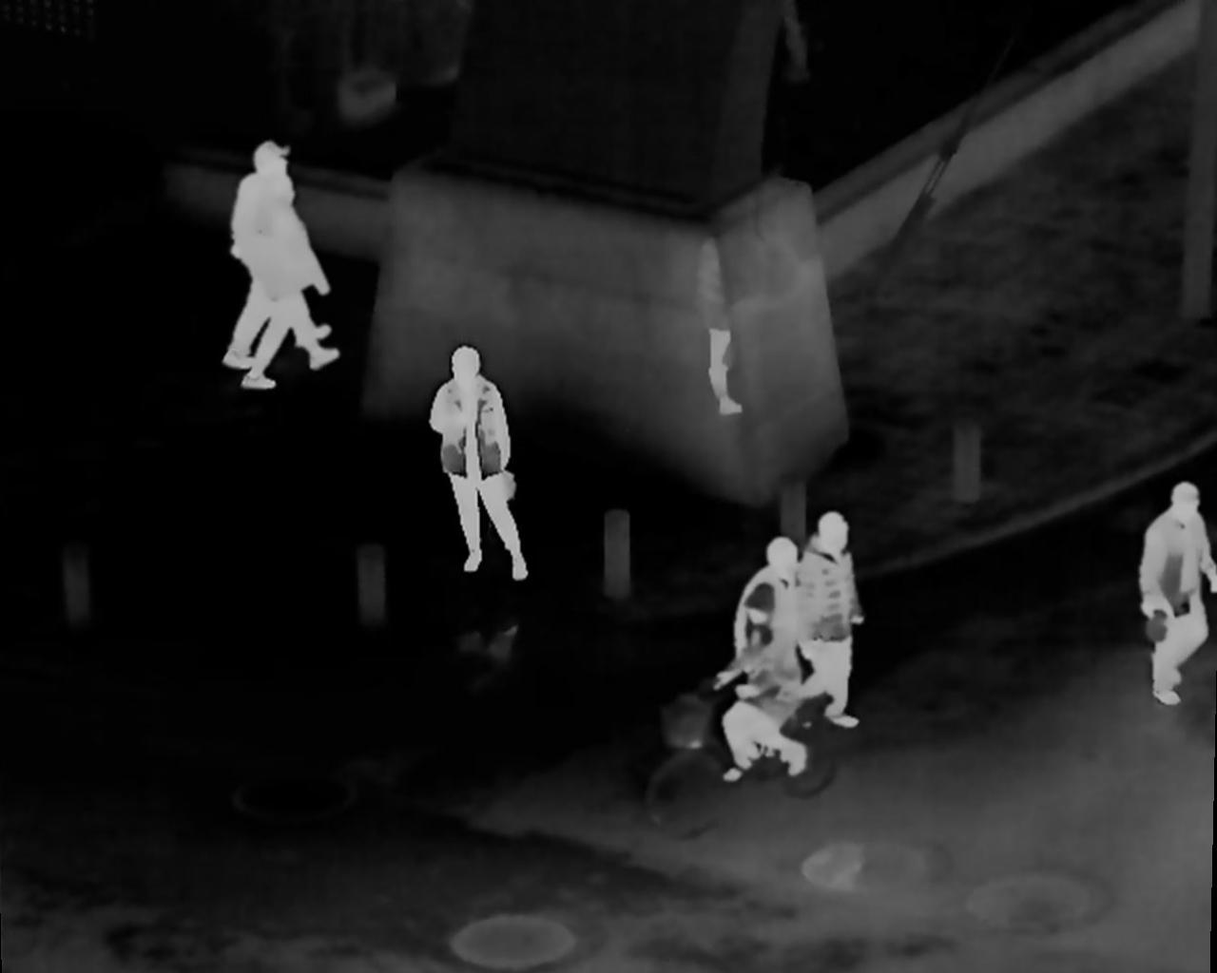person: (227, 143, 330, 367), (243, 173, 339, 391), (438, 346, 523, 580), (717, 582, 807, 785), (1140, 476, 1211, 705), (736, 534, 810, 719), (801, 516, 865, 724)
